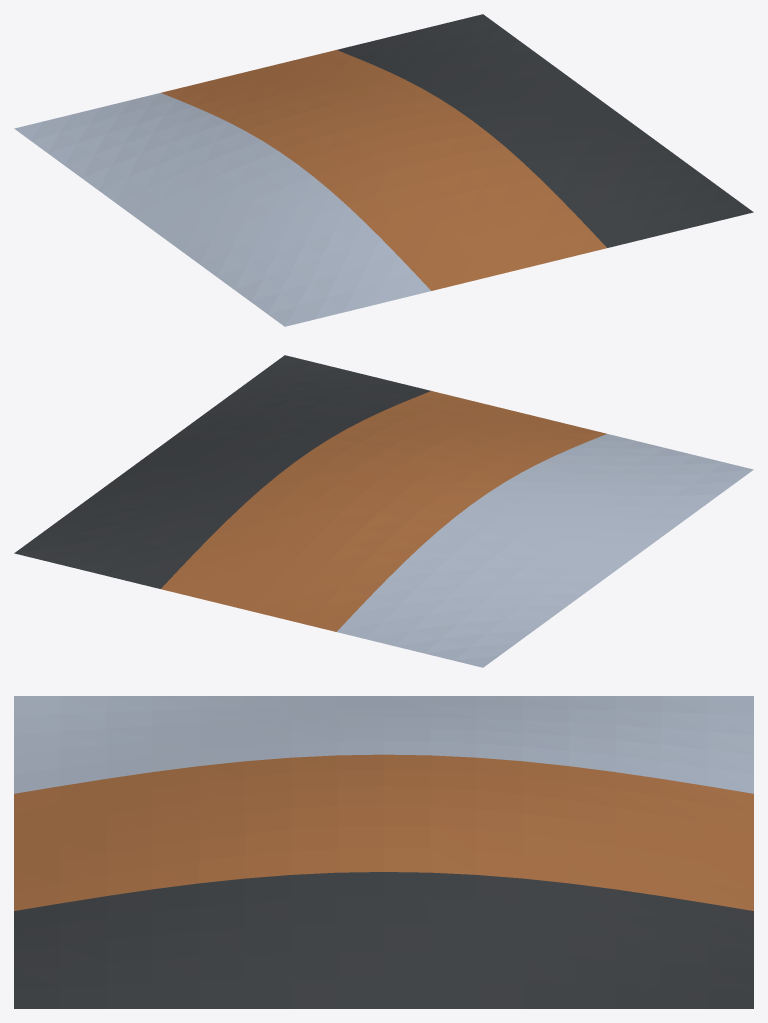
Rendered from TerrainSurfaceLabels.fbx.
3 renders of one model, top to bottom at view 1: azimuth 30°, elevation 25°; view 2: azimuth 150°, elevation 25°; view 3: azimuth 270°, elevation 25°, orthographic. The views are drawn at different scales.
Visible parts, largest first — view 1: TerrainSurfaceLabels; view 2: TerrainSurfaceLabels; view 3: TerrainSurfaceLabels.
Part boxes in pixels (bbox=[...]): TerrainSurfaceLabels: bbox=[14, 14, 753, 326]; TerrainSurfaceLabels: bbox=[14, 355, 753, 667]; TerrainSurfaceLabels: bbox=[14, 696, 753, 1008].
Size of the model in its own units: 12800 by 12800 by 900.
